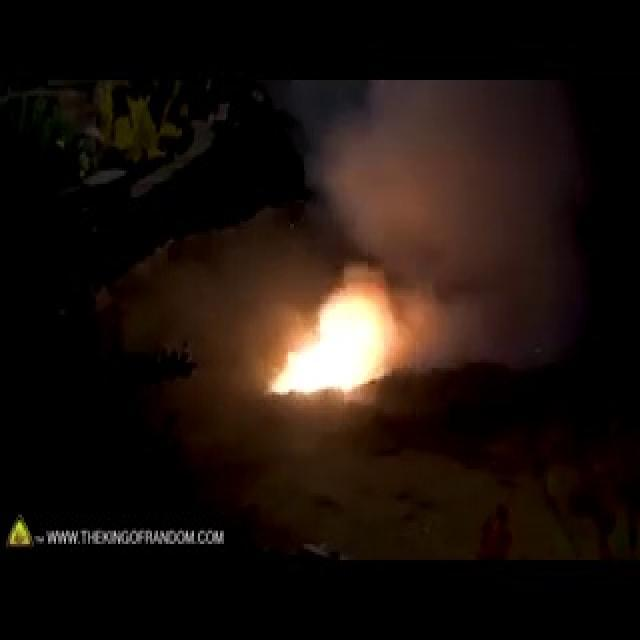fire: (256, 250, 408, 400)
